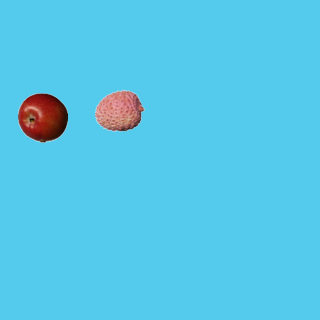Apple Braeburn: (17, 92, 67, 142)
Lychee: (94, 85, 144, 135)
